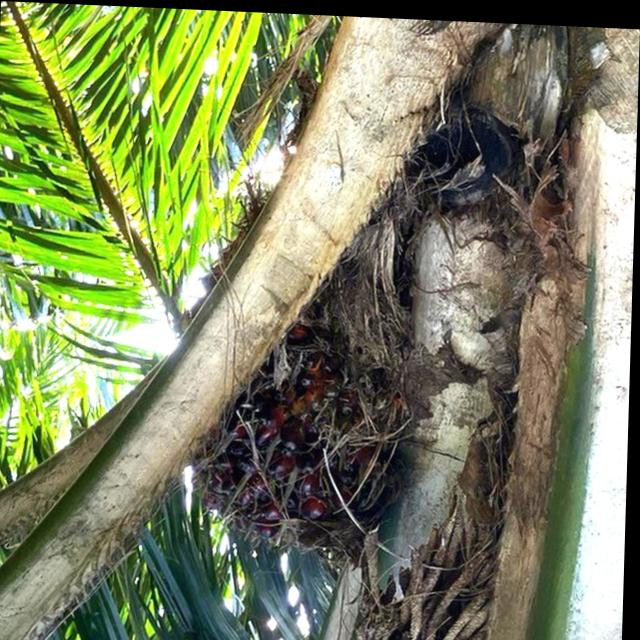ripe: (206, 331, 368, 549)
